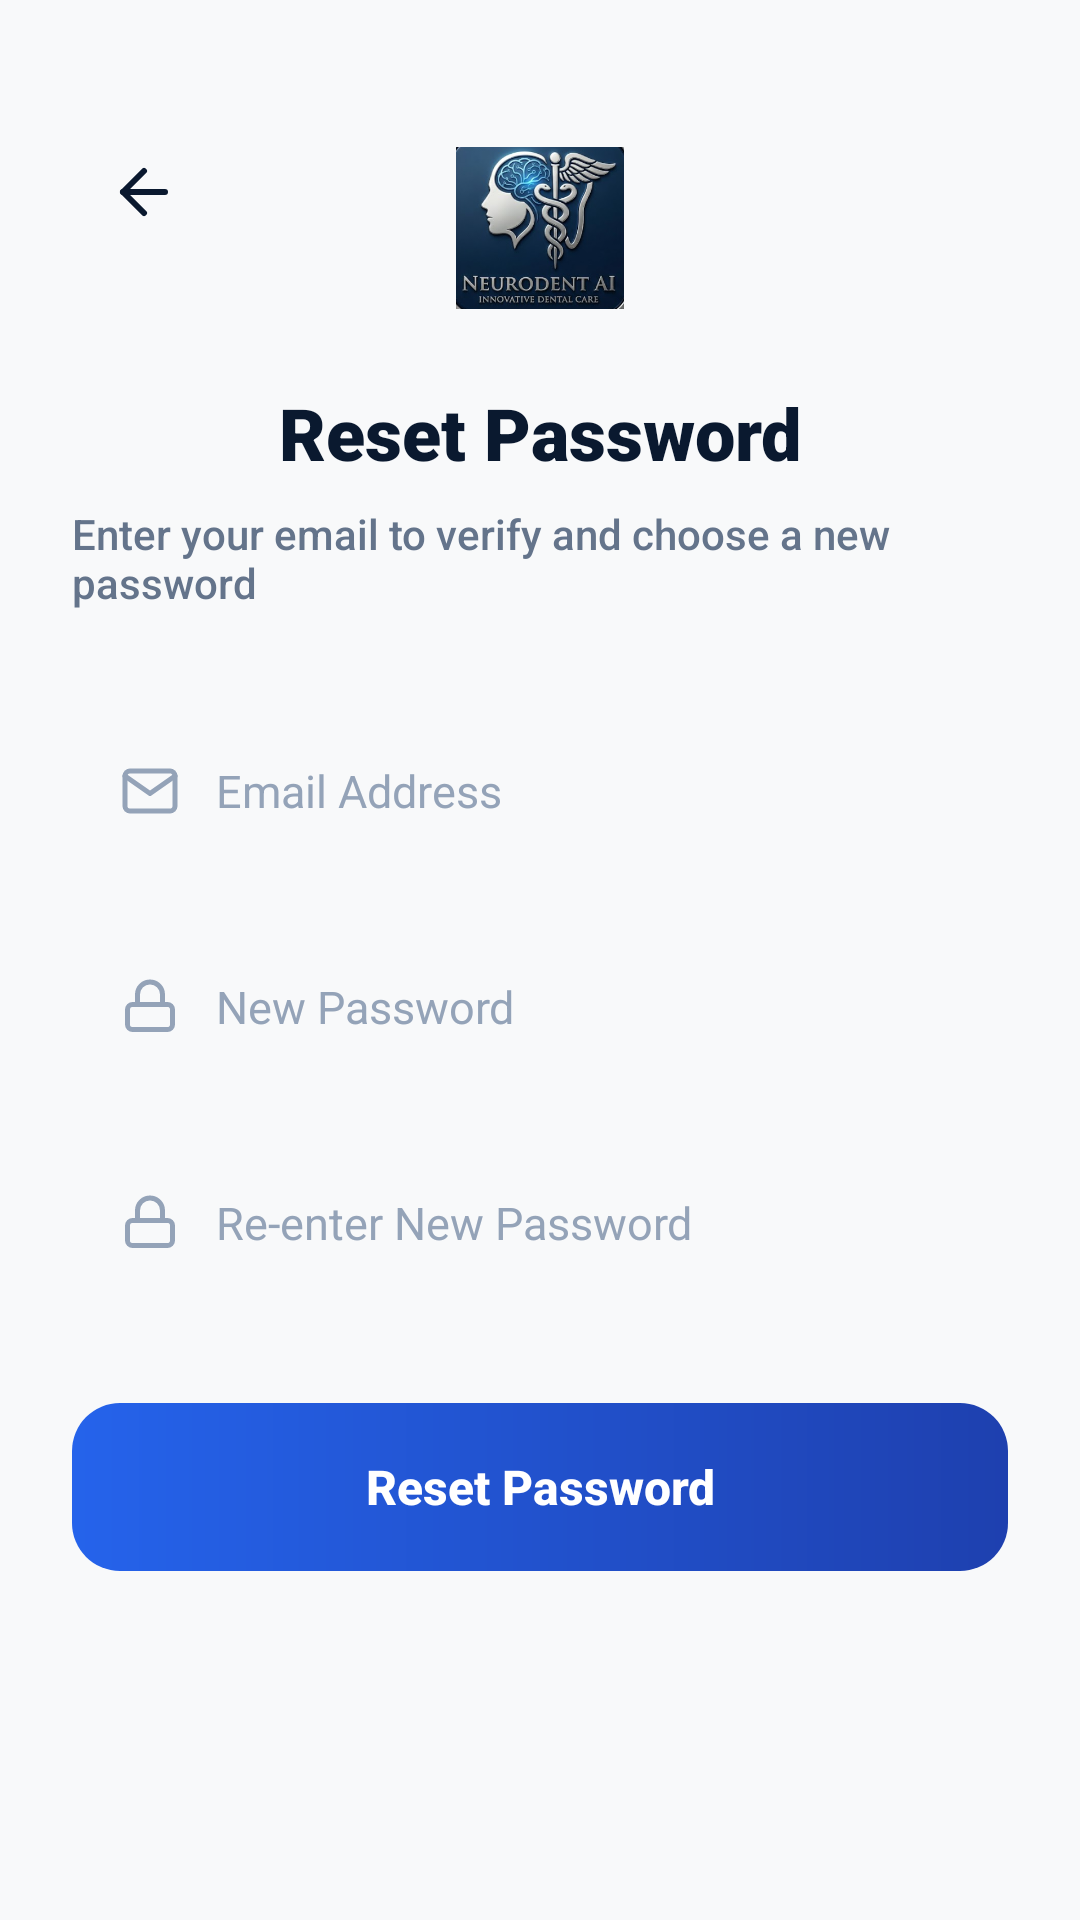

Screen size 1080w x 1920h. Icon name, then its center in pixels as [x,y]:
arrow back: [144,192]
